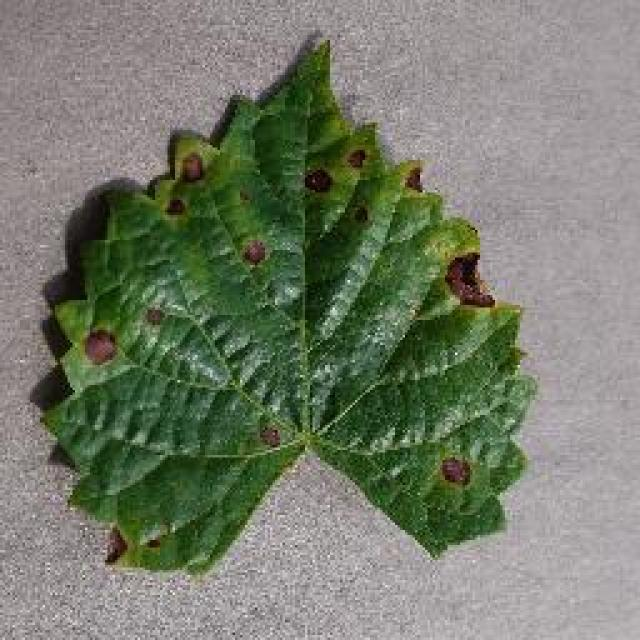Grape___Black_rot: (33, 34, 548, 589)
